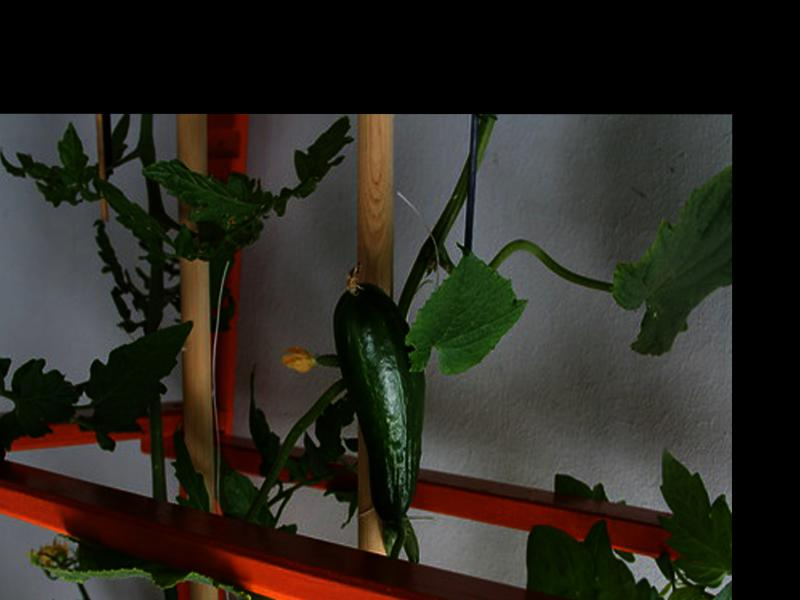Cucumber: (333, 266, 423, 520)
